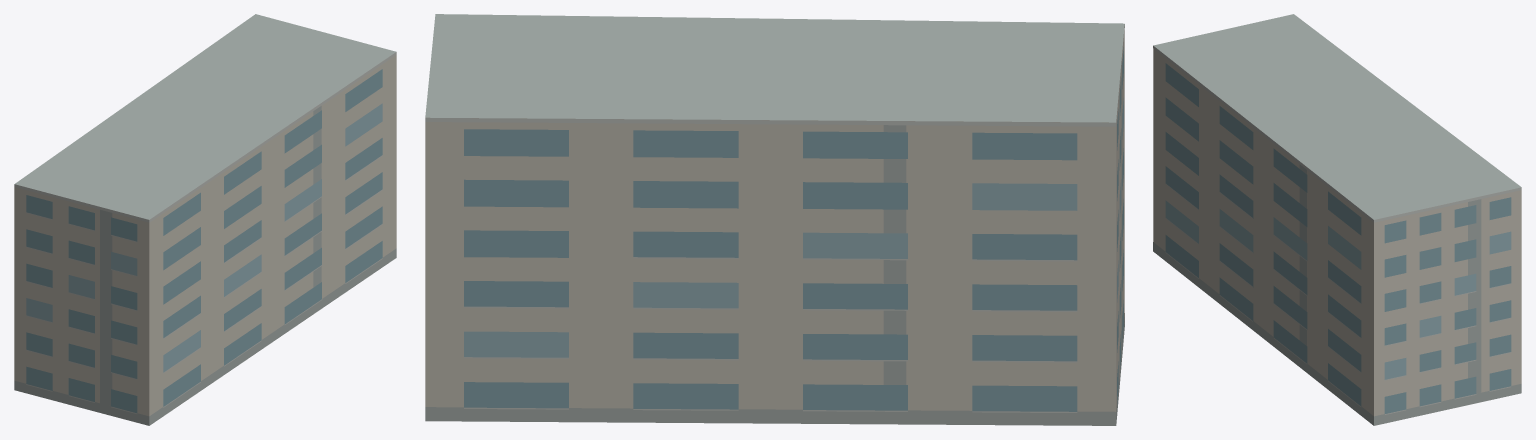
The model's file is survey-upis-32747673.glb.
3 views of the same model, side by side, from view 1: azimuth 30°, elevation 25°; view 2: azimuth 150°, elevation 25°; view 3: azimuth 270°, elevation 25° (orthographic). The views are drawn at different scales.
Parts seen in each view (by area): view 1: survey-upis-32747673.tmp; view 2: survey-upis-32747673.tmp; view 3: survey-upis-32747673.tmp.
Part boxes in pixels (<box>): survey-upis-32747673.tmp: <box>14,14,396,425</box>; survey-upis-32747673.tmp: <box>425,14,1124,425</box>; survey-upis-32747673.tmp: <box>1153,14,1521,425</box>.
Bounding box in the file's own units: 37.75 × 17.6 × 28.55.
